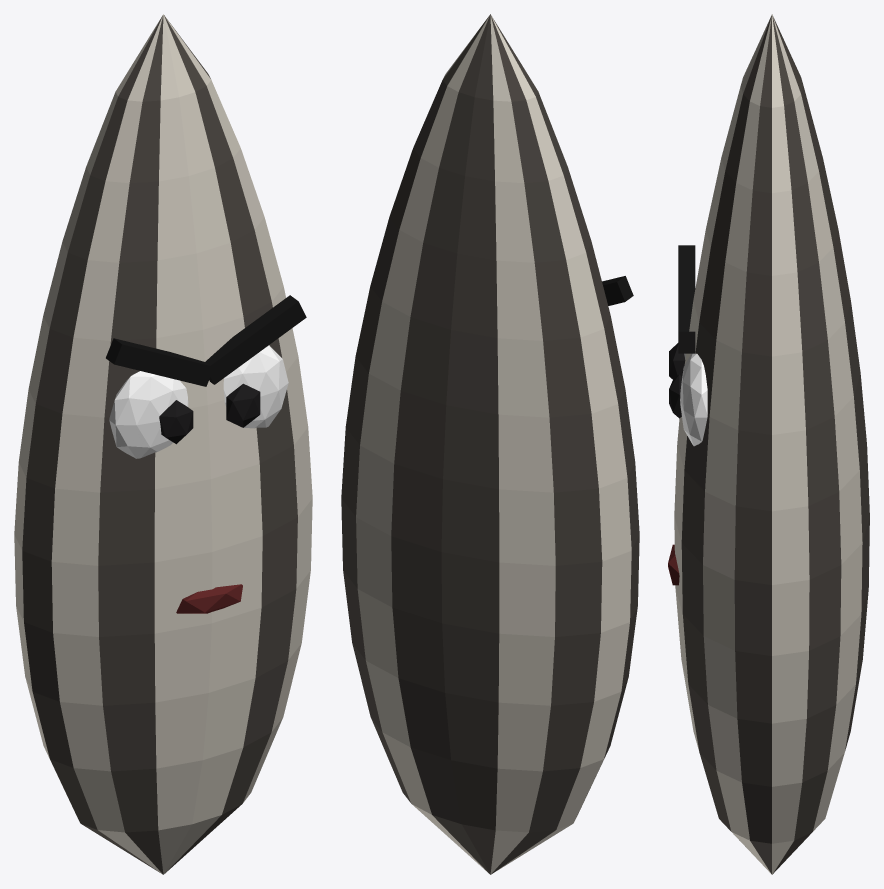
The model's file is seed_ranged.glb.
3 renders of one model, left to right at view 1: azimuth 30°, elevation 25°; view 2: azimuth 150°, elevation 25°; view 3: azimuth 270°, elevation 25°, orthographic.
Visible parts, largest first — view 1: ranged_Shell, ranged_Eye, ranged_Brow, ranged_Pupil, ranged_Mouth; view 2: ranged_Shell, ranged_Brow; view 3: ranged_Shell, ranged_Eye, ranged_Brow, ranged_Pupil.
Part boxes in pixels (bbox=[...]): ranged_Shell: bbox=[14, 14, 312, 874]; ranged_Eye: bbox=[109, 345, 288, 458]; ranged_Brow: bbox=[106, 295, 306, 386]; ranged_Pupil: bbox=[159, 383, 260, 444]; ranged_Mouth: bbox=[176, 584, 242, 613]; ranged_Shell: bbox=[341, 14, 639, 874]; ranged_Brow: bbox=[602, 276, 633, 305]; ranged_Shell: bbox=[674, 14, 869, 874]; ranged_Eye: bbox=[680, 353, 707, 446]; ranged_Brow: bbox=[678, 245, 695, 353]; ranged_Pupil: bbox=[669, 343, 685, 418].
Bounding box in the file's own units: 0.5493 × 1.6 × 0.3401.
Materials: 1 (1 with a texture image).
